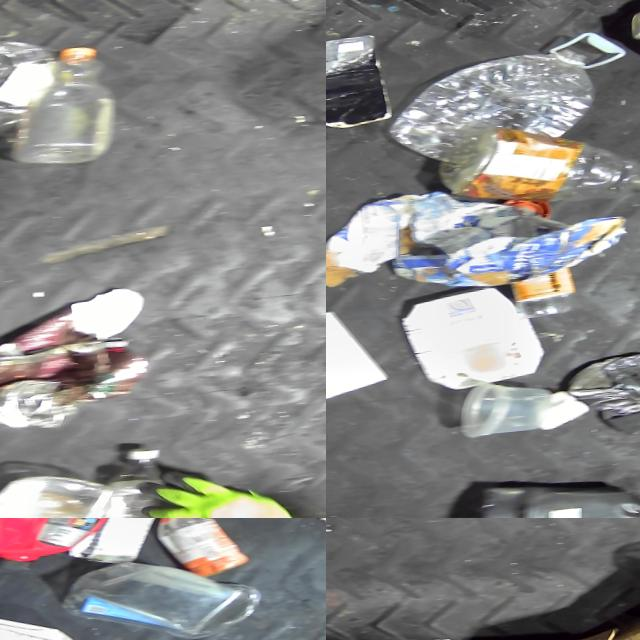non_white_jug: (0, 518, 134, 566)
plastic_bottle: (6, 50, 118, 172), (0, 40, 49, 176), (161, 518, 254, 583), (95, 451, 162, 518)
